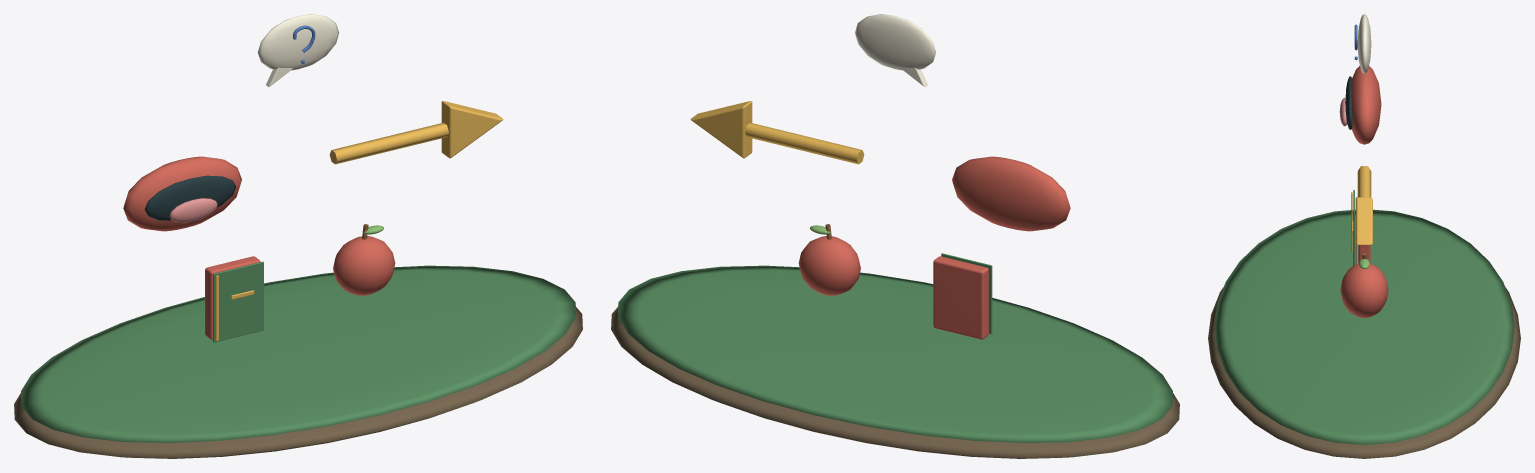
The model's file is complete-first-which-target.glb.
3 renders of one model, left to right at view 1: azimuth 30°, elevation 25°; view 2: azimuth 150°, elevation 25°; view 3: azimuth 270°, elevation 25°, orthographic. The views are drawn at different scales.
Visible parts, largest first — view 1: complete-first-which-target_surface_01, complete-first-which-target_surface_00, complete-first-which-target_surface_02, complete-first-which-target_surface_05, complete-first-which-target_surface_09, complete-first-which-target_surface_03, complete-first-which-target_surface_04; view 2: complete-first-which-target_surface_01, complete-first-which-target_surface_02, complete-first-which-target_surface_00, complete-first-which-target_surface_05, complete-first-which-target_surface_09; view 3: complete-first-which-target_surface_01, complete-first-which-target_surface_00, complete-first-which-target_surface_02, complete-first-which-target_surface_05, complete-first-which-target_surface_09, complete-first-which-target_surface_03.
Boxes of the visible parts, bbox=[...] form: complete-first-which-target_surface_01: bbox=[21, 261, 575, 442]; complete-first-which-target_surface_00: bbox=[14, 307, 582, 458]; complete-first-which-target_surface_02: bbox=[123, 156, 395, 339]; complete-first-which-target_surface_05: bbox=[215, 101, 503, 341]; complete-first-which-target_surface_09: bbox=[258, 14, 338, 86]; complete-first-which-target_surface_03: bbox=[144, 175, 236, 220]; complete-first-which-target_surface_04: bbox=[169, 198, 217, 222]; complete-first-which-target_surface_01: bbox=[618, 253, 1172, 442]; complete-first-which-target_surface_02: bbox=[798, 156, 1070, 339]; complete-first-which-target_surface_00: bbox=[611, 307, 1179, 458]; complete-first-which-target_surface_05: bbox=[690, 101, 864, 164]; complete-first-which-target_surface_09: bbox=[855, 14, 935, 86]; complete-first-which-target_surface_01: bbox=[1214, 190, 1514, 444]; complete-first-which-target_surface_00: bbox=[1208, 287, 1520, 458]; complete-first-which-target_surface_02: bbox=[1340, 66, 1388, 317]; complete-first-which-target_surface_05: bbox=[1351, 166, 1372, 252]; complete-first-which-target_surface_09: bbox=[1357, 14, 1371, 73]; complete-first-which-target_surface_03: bbox=[1345, 76, 1352, 129].
Size of the model in its own units: 4.56 by 2.94 by 2.5.
